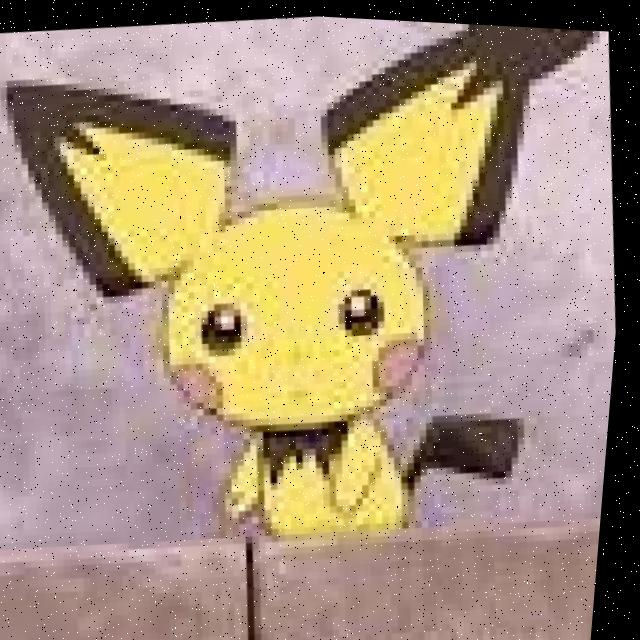pichu: (0, 0, 595, 580)
